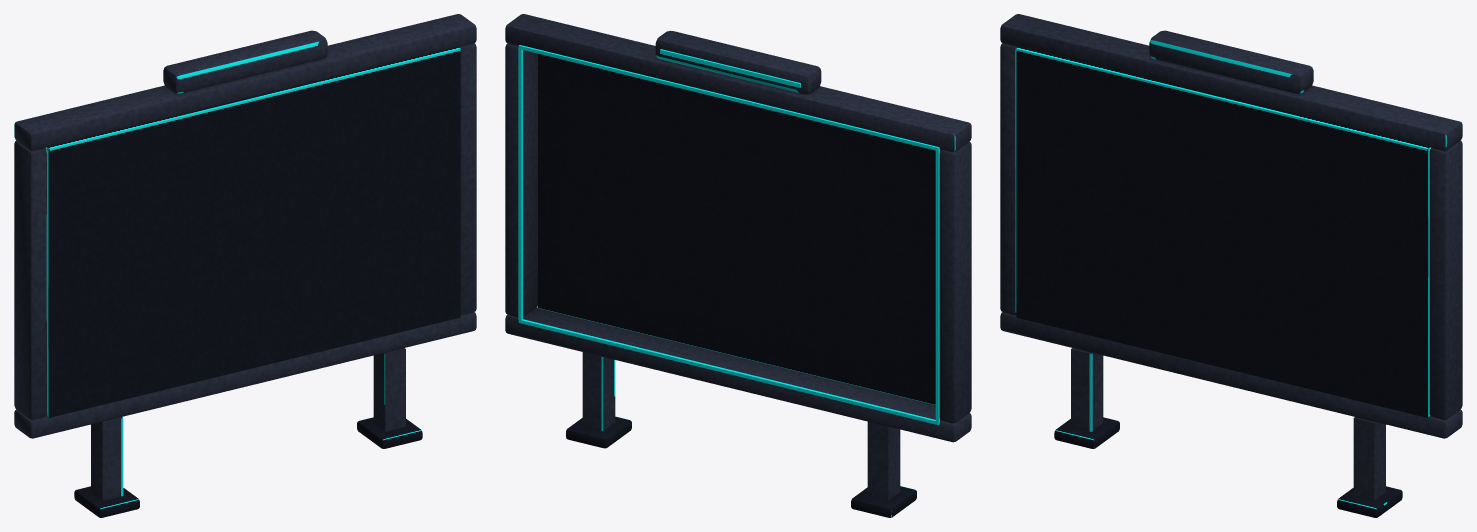
The model's file is board_frame.fbx.
3 renders of one model, left to right at view 1: azimuth 30°, elevation 25°; view 2: azimuth 150°, elevation 25°; view 3: azimuth 330°, elevation 25°, orthographic.
Visible parts, largest first — view 1: board_frame; view 2: board_frame, board_frame_glow; view 3: board_frame.
Boxes of the visible parts, left/top/right/bottom form: board_frame: left=14, top=14, right=476, bottom=517; board_frame: left=505, top=14, right=971, bottom=517; board_frame_glow: left=518, top=45, right=939, bottom=425; board_frame: left=1000, top=14, right=1462, bottom=517.
Bounding box in the file's own units: 1740 × 1550 × 180.
1 material, 1 textured.
